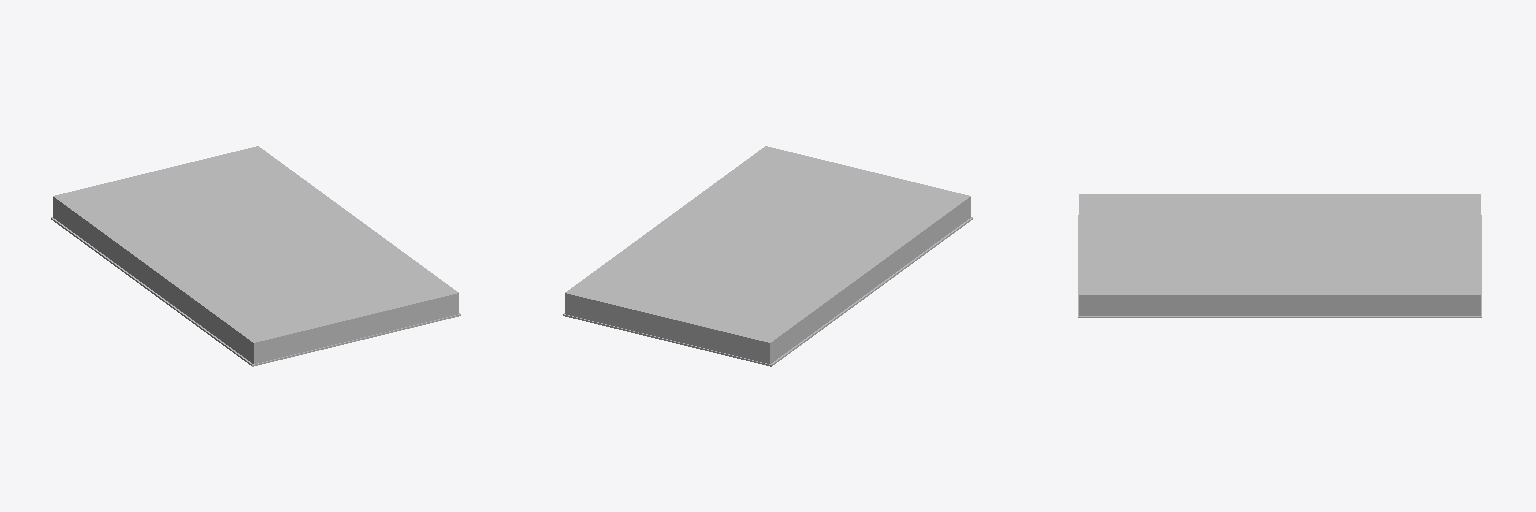
Rendered from Room3HitboxData.obj.
The picture shows the model from 3 angles: view 1: azimuth 30°, elevation 25°; view 2: azimuth 150°, elevation 25°; view 3: azimuth 270°, elevation 25°; orthographic projection.
Visible parts, largest first — view 1: Big_Cube.001, Cube_Cube.002; view 2: Big_Cube.001, Cube_Cube.002; view 3: Big_Cube.001, Cube_Cube.002.
Boxes of the visible parts, x1,y1,x2,y2 form: Big_Cube.001: [53, 146, 458, 363]; Cube_Cube.002: [51, 217, 460, 366]; Big_Cube.001: [565, 146, 970, 363]; Cube_Cube.002: [563, 217, 972, 366]; Big_Cube.001: [1079, 194, 1480, 315]; Cube_Cube.002: [1078, 215, 1481, 317].
Bounding box in the file's own units: 134 × 14 × 224.